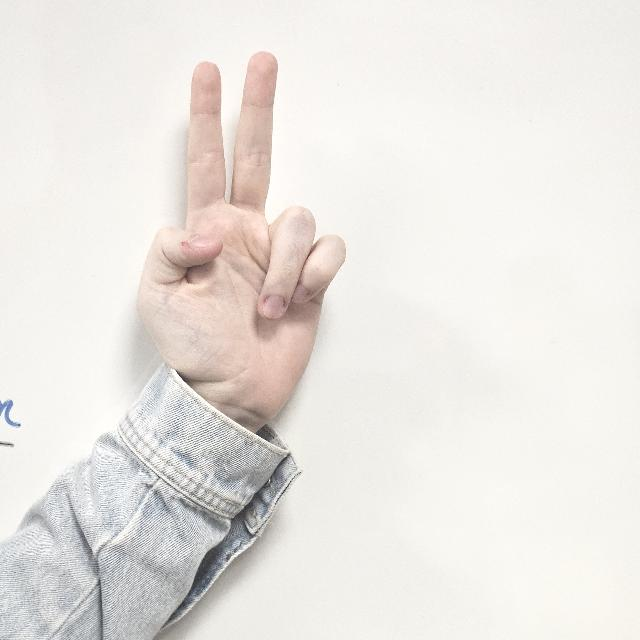Triangulo: (133, 52, 351, 424)
